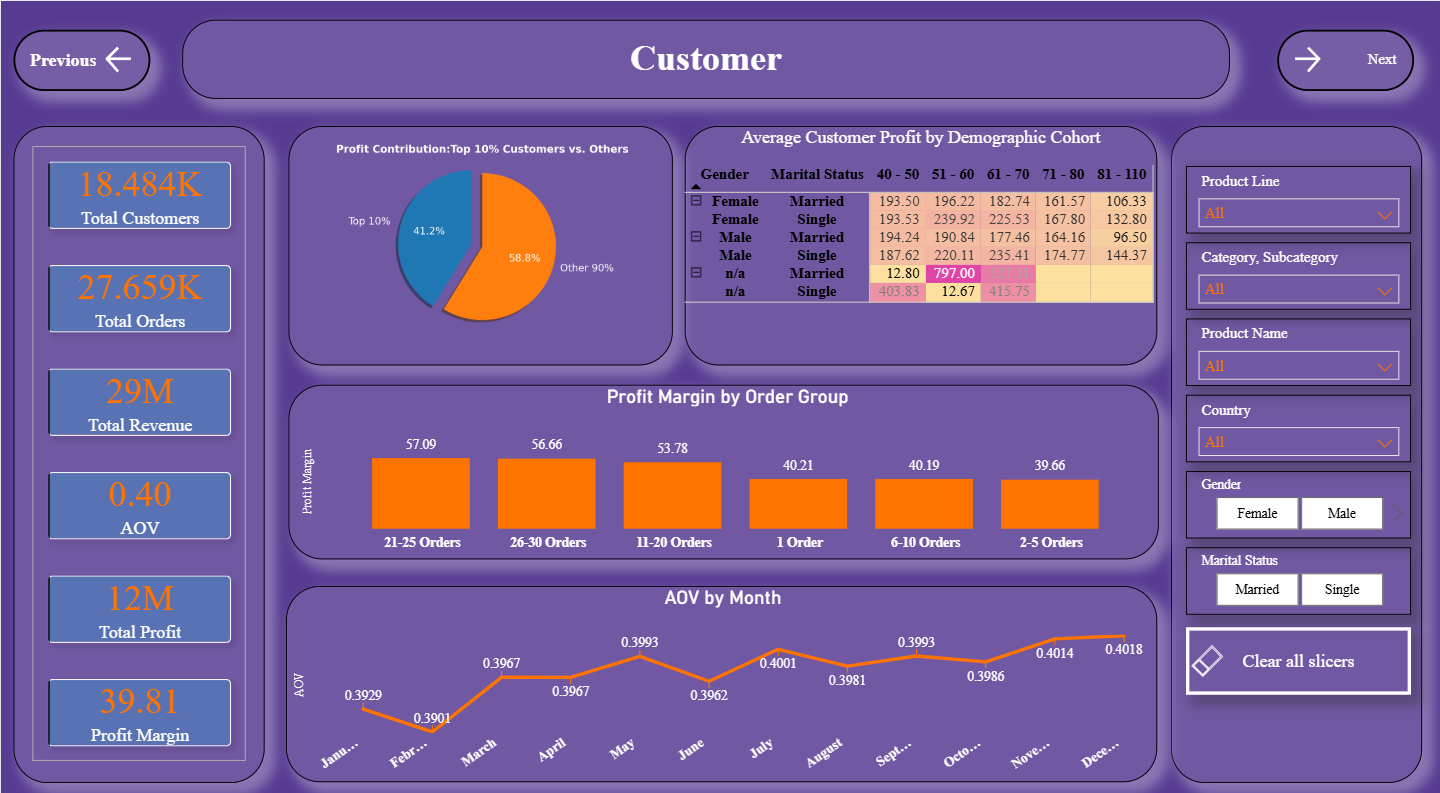

The dashboard page shown, as its layout file describes it:
{"tool":"powerbi","page":{"name":"Customer ","canvas":[1280,720],"ordinal":2},"visuals":[{"type":"textbox","box":[161.4,17.1,931.4,70],"z":0},{"type":"actionButton","box":[1134.3,25.7,121.4,54.3],"z":1000},{"type":"shape","box":[11.4,111.4,222.9,584.3],"z":2000},{"type":"shape","box":[1040,111.4,222.9,584.3],"z":3000},{"type":"actionButton","box":[11.4,25.7,121.4,54.3],"z":4000},{"type":"cardVisual","fields":{"Data":["Count(dim_customers.customer_key)","Count(fact_sales.order_number)","DAX Measures.Total Revenue","DAX Measures.AOV","DAX Measures.Total Profit","DAX Measures.Profit Margin"]},"box":[11,112,223,583],"z":5000},{"type":"slicer","fields":{"Values":["dim_products.product_line"]},"box":[1053,146.2,200,60],"z":6000},{"type":"slicer","fields":{"Values":["dim_products.category","dim_products.subcategory"]},"box":[1053,214,200,60],"z":7000},{"type":"slicer","fields":{"Values":["dim_products.product_name"]},"box":[1053,281.8,200,60],"z":8000},{"type":"slicer","fields":{"Values":["dim_customers.country"]},"box":[1053,349.6,200,60],"z":9000},{"type":"slicer","fields":{"Values":["dim_customers.gender"]},"box":[1053,417.4,200,60],"z":10000},{"type":"slicer","fields":{"Values":["dim_customers.marital_status"]},"box":[1053,485.2,200,60],"z":11000},{"type":"actionButton","box":[1053,557,200,60],"z":12000},{"type":"shape","box":[253.8,520,774.3,174.3],"z":13000},{"type":"shape","box":[255,341.2,773.8,155],"z":14000},{"type":"shape","box":[255,111.2,341.2,212.5],"z":15000},{"type":"shape","box":[607.5,111.2,420,212.5],"z":16000},{"type":"pythonVisual","fields":{"Values":["dim_customers.customer_key","dim_customers.first_name","dim_customers.last_name","DAX Measures.Total Revenue","DAX Measures.Total Profit","DAX Measures.Profit Margin"]},"box":[253.8,111.2,342.5,212.5],"z":17000},{"type":"lineChart","fields":{"Category":["fact_sales.order_date.Variation.Date Hierarchy.Year","fact_sales.order_date.Variation.Date Hierarchy.Quarter","fact_sales.order_date.Variation.Date Hierarchy.Month","fact_sales.order_date.Variation.Date Hierarchy.Day"],"Y":["DAX Measures.AOV"]},"box":[255,520,772.5,173.8],"z":18000},{"type":"clusteredColumnChart","fields":{"Category":["dim_customers.Order Group"],"Y":["DAX Measures.Profit Margin"]},"box":[263.8,341.2,765,155],"z":19000},{"type":"pivotTable","title":"Average Customer Profit by Demographic Cohort","fields":{"Values":["DAX Measures.Average Profit"],"Columns":["dim_customers.Age (groups)"],"Rows":["dim_customers.gender","dim_customers.marital_status"]},"box":[607.5,112.5,420,211.2],"z":20000}]}

Visuals, with their boxes in screenshot pixels (x1, y1, x2, y2), scaled from the page's 1280x720 canvas onto the 1440x793 screenshot:
textbox: crop(182, 19, 1229, 96)
actionButton: crop(1276, 28, 1413, 88)
shape: crop(13, 123, 264, 766)
shape: crop(1170, 123, 1421, 766)
actionButton: crop(13, 28, 149, 88)
cardVisual - Count(dim_customers.customer_key) x Count(fact_sales.order_number): crop(12, 123, 263, 765)
slicer - dim_products.product_line: crop(1185, 161, 1410, 227)
slicer - dim_products.category x dim_products.subcategory: crop(1185, 236, 1410, 302)
slicer - dim_products.product_name: crop(1185, 310, 1410, 376)
slicer - dim_customers.country: crop(1185, 385, 1410, 451)
slicer - dim_customers.gender: crop(1185, 460, 1410, 526)
slicer - dim_customers.marital_status: crop(1185, 534, 1410, 600)
actionButton: crop(1185, 613, 1410, 680)
shape: crop(286, 573, 1157, 765)
shape: crop(287, 376, 1157, 547)
shape: crop(287, 122, 671, 357)
shape: crop(683, 122, 1156, 357)
pythonVisual - dim_customers.customer_key x dim_customers.first_name: crop(286, 122, 671, 357)
lineChart - fact_sales.order_date.Variation.Date Hierarchy.Year x fact_sales.order_date.Variation.Date Hierarchy.Quarter: crop(287, 573, 1156, 764)
clusteredColumnChart - dim_customers.Order Group x DAX Measures.Profit Margin: crop(297, 376, 1157, 547)
"Average Customer Profit by Demographic Cohort" pivotTable: crop(683, 124, 1156, 357)
